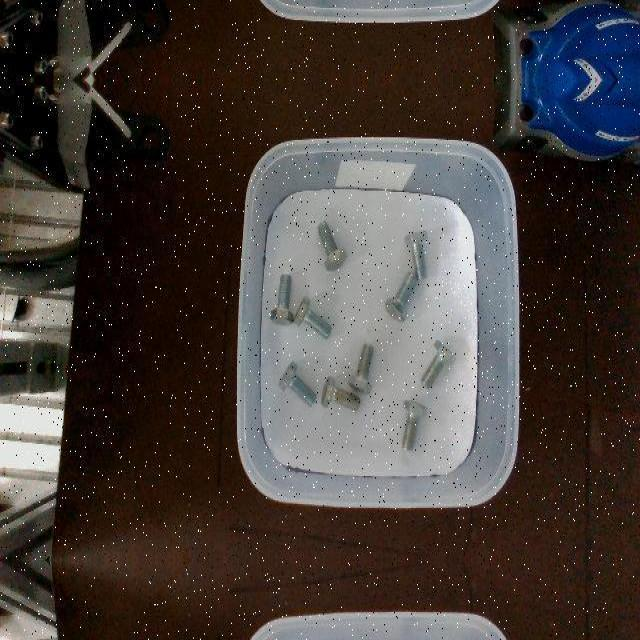screw: (279, 361, 318, 407), (421, 339, 456, 389), (293, 296, 332, 338), (385, 271, 417, 321), (317, 220, 347, 270), (320, 376, 360, 412), (401, 398, 427, 450), (348, 343, 374, 393), (270, 273, 294, 325), (403, 229, 427, 279)
